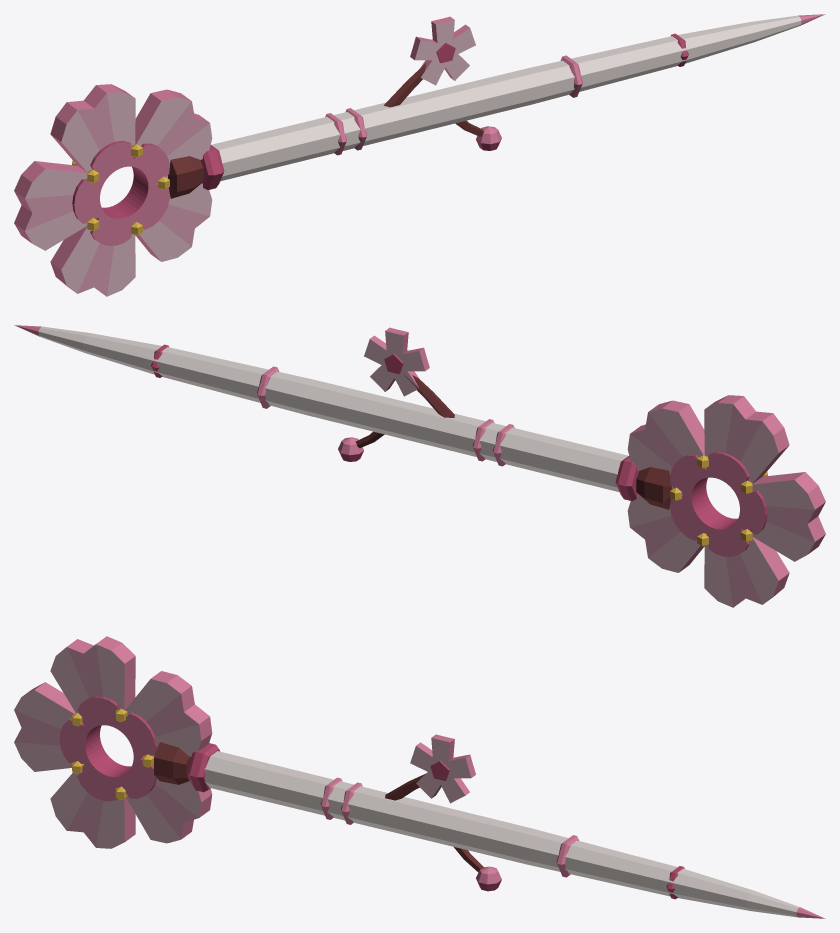
Rendered from needle_sakura.glb.
3 renders of one model, top to bottom at view 1: azimuth 30°, elevation 25°; view 2: azimuth 150°, elevation 25°; view 3: azimuth 330°, elevation 25°, orthographic.
Parts seen in each view (by area): view 1: needle_sakura; view 2: needle_sakura; view 3: needle_sakura.
Part boxes in pixels (<box>): needle_sakura: <box>14,14,825,296</box>; needle_sakura: <box>14,325,825,607</box>; needle_sakura: <box>14,636,825,918</box>.
Bounding box in the file's own units: 0.5982 × 0.1444 × 0.0316.
